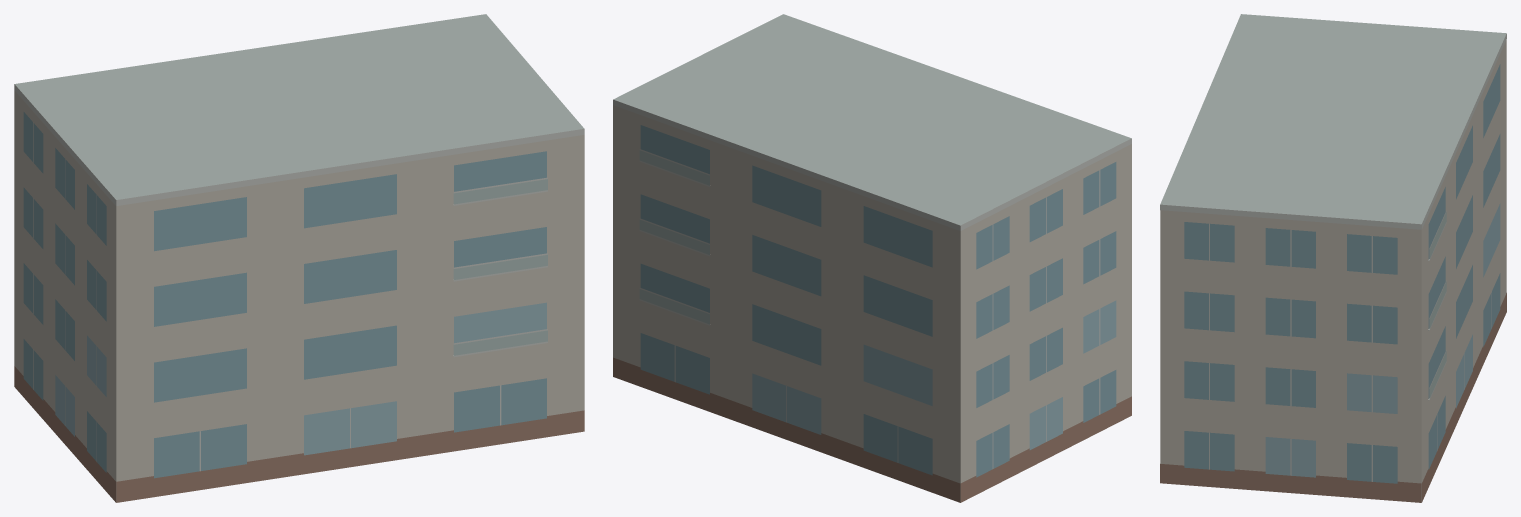
File: survey-upis-32887516.glb
3 renders of one model, left to right at view 1: azimuth 30°, elevation 25°; view 2: azimuth 150°, elevation 25°; view 3: azimuth 270°, elevation 25°, orthographic. The views are drawn at different scales.
Parts seen in each view (by area): view 1: survey-upis-32887516.tmp; view 2: survey-upis-32887516.tmp; view 3: survey-upis-32887516.tmp.
Boxes of the visible parts, bbox=[...] form: survey-upis-32887516.tmp: bbox=[14, 14, 584, 502]; survey-upis-32887516.tmp: bbox=[613, 14, 1131, 502]; survey-upis-32887516.tmp: bbox=[1160, 14, 1506, 502].
Bounding box in the file's own units: 19.75 × 12.2 × 13.77.
